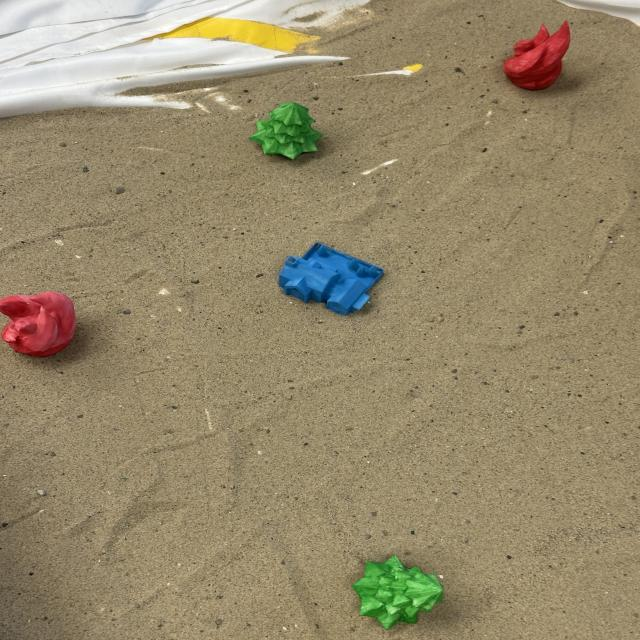fire: (0, 290, 77, 358), (501, 19, 572, 91)
house: (276, 241, 384, 316)
tree: (350, 554, 444, 630), (249, 100, 324, 160)
